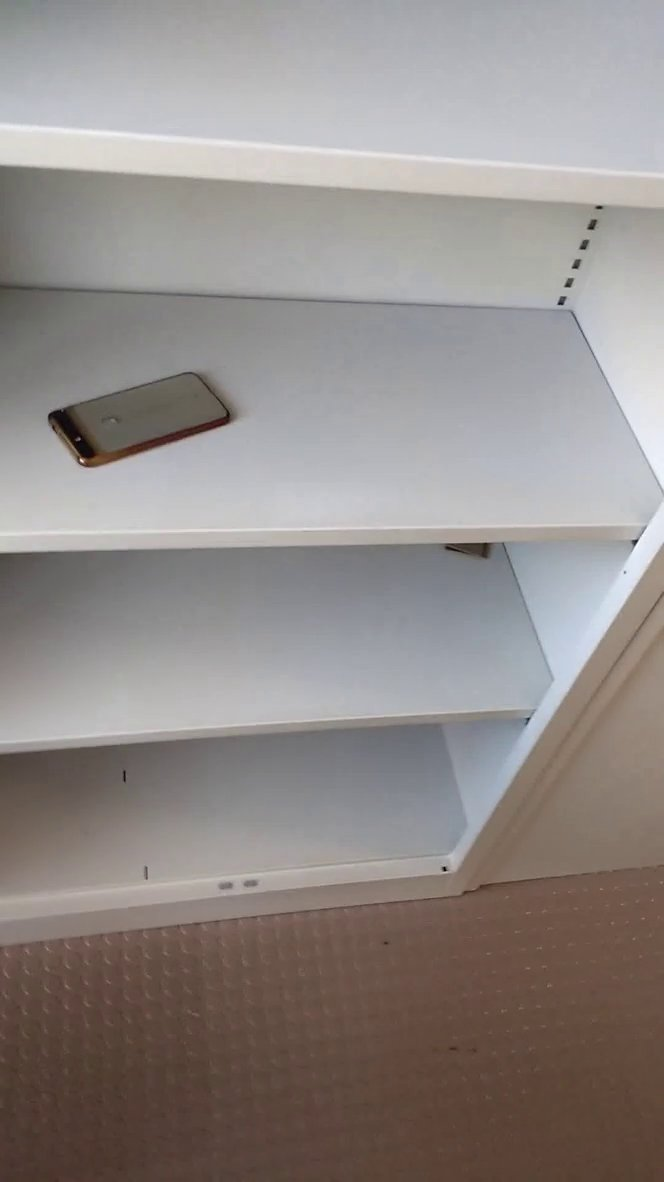phone: (41, 359, 236, 480)
